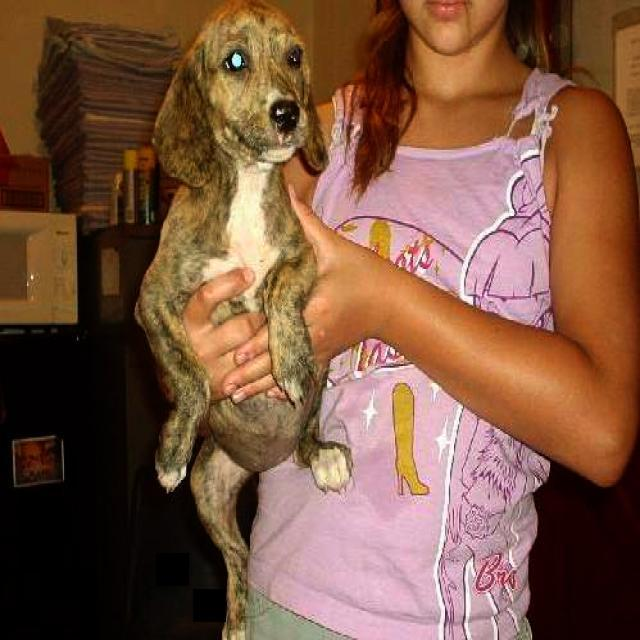puppy-dog: (137, 1, 353, 639)
